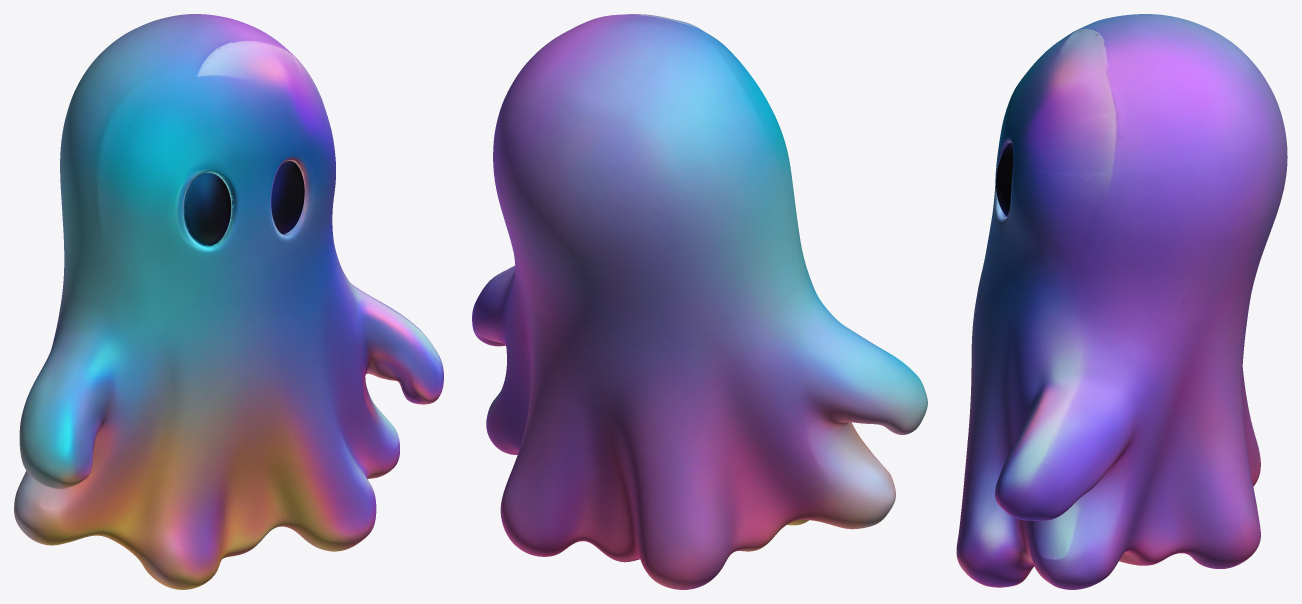
3 views of the same model, side by side, from view 1: azimuth 30°, elevation 25°; view 2: azimuth 150°, elevation 25°; view 3: azimuth 270°, elevation 25° (orthographic). The views are drawn at different scales.
Visible parts, largest first — view 1: tripo_node_6816041f-7a49-4716-8cdc-c601d6b36bd4; view 2: tripo_node_6816041f-7a49-4716-8cdc-c601d6b36bd4; view 3: tripo_node_6816041f-7a49-4716-8cdc-c601d6b36bd4.
Part boxes in pixels (bbox=[...]): tripo_node_6816041f-7a49-4716-8cdc-c601d6b36bd4: bbox=[14, 14, 443, 589]; tripo_node_6816041f-7a49-4716-8cdc-c601d6b36bd4: bbox=[472, 14, 927, 589]; tripo_node_6816041f-7a49-4716-8cdc-c601d6b36bd4: bbox=[956, 14, 1287, 589].
Size of the model in its own units: 0.8737 by 1 by 0.5705.
1 material, 1 textured.
